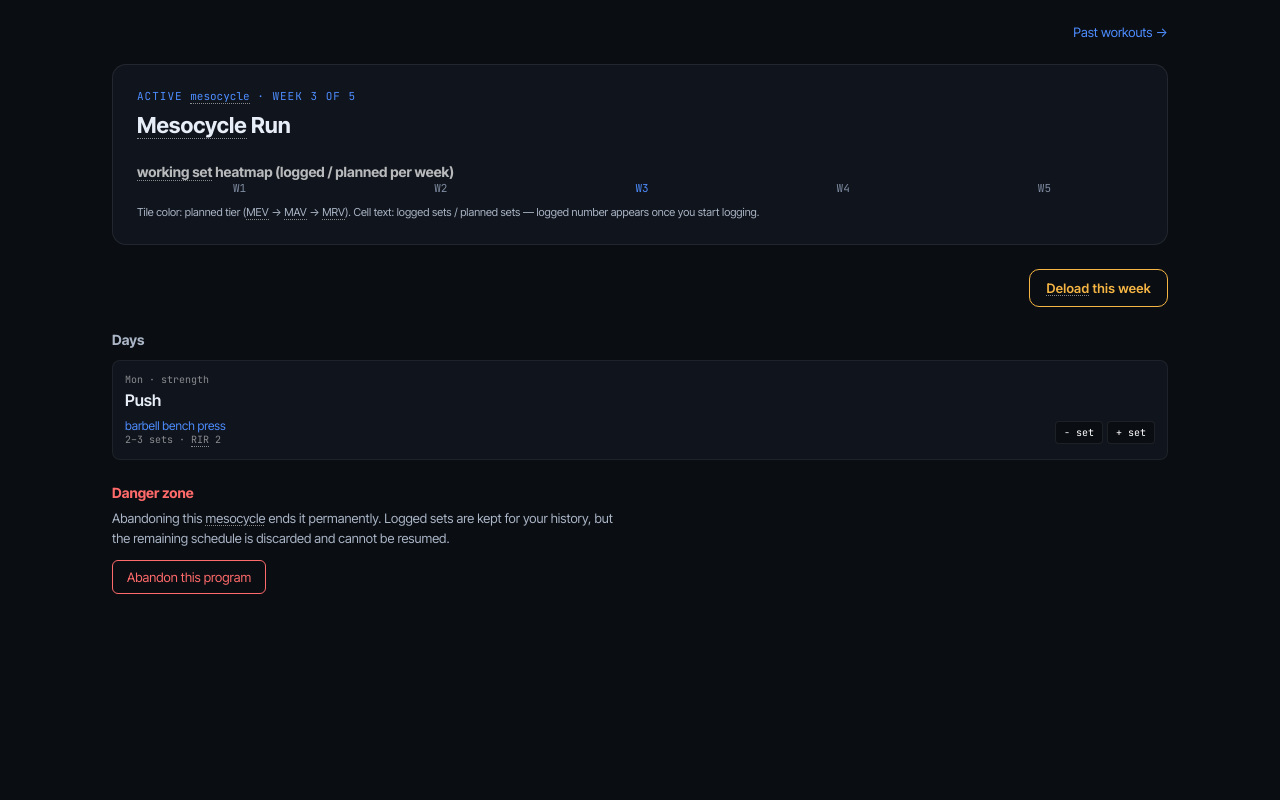
Test case: MyProgramPage › clicking an exercise on desktop opens the DesktopSwapSheet
Click the button "barbell bench press": (175, 426) 125,418 -> 226,433
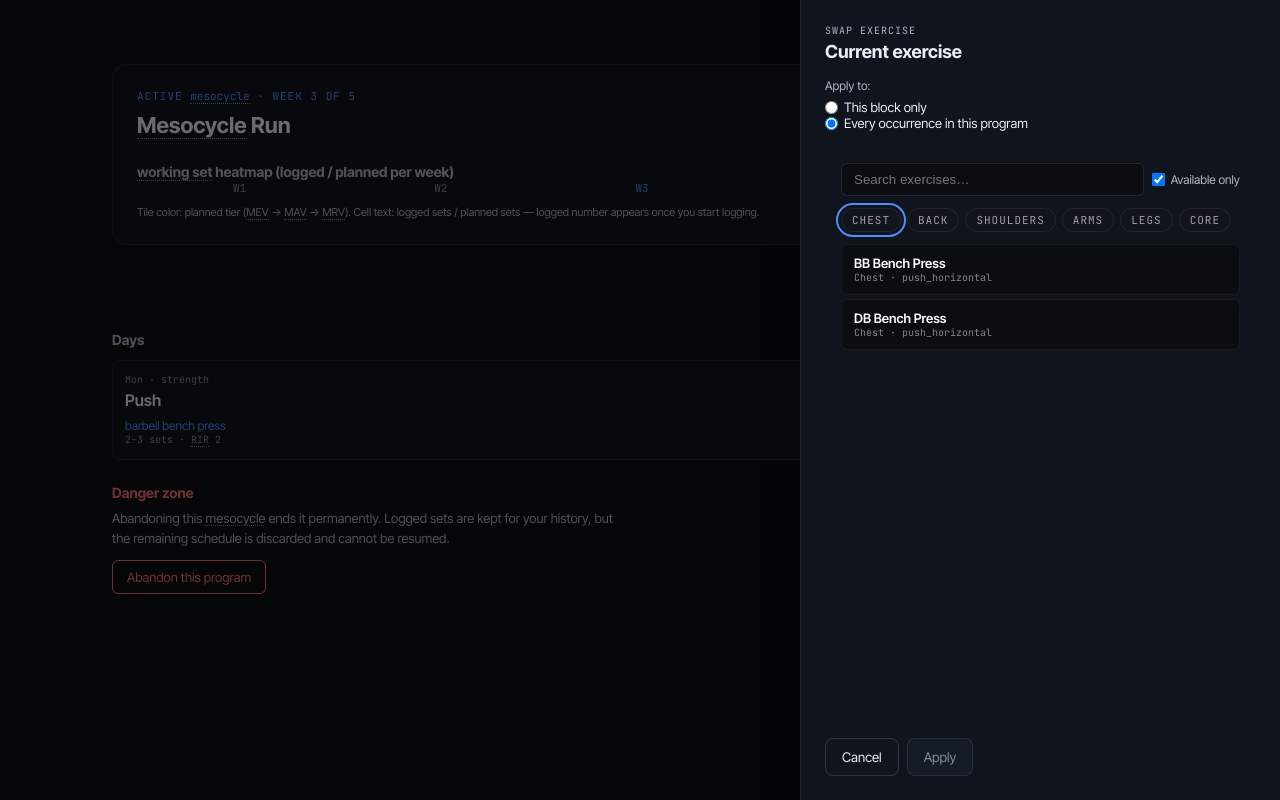
Expected: the dialog "Swap exercise" is shown
